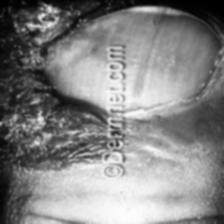Non-Cancerous Skin Condition: (0, 0, 105, 166)
